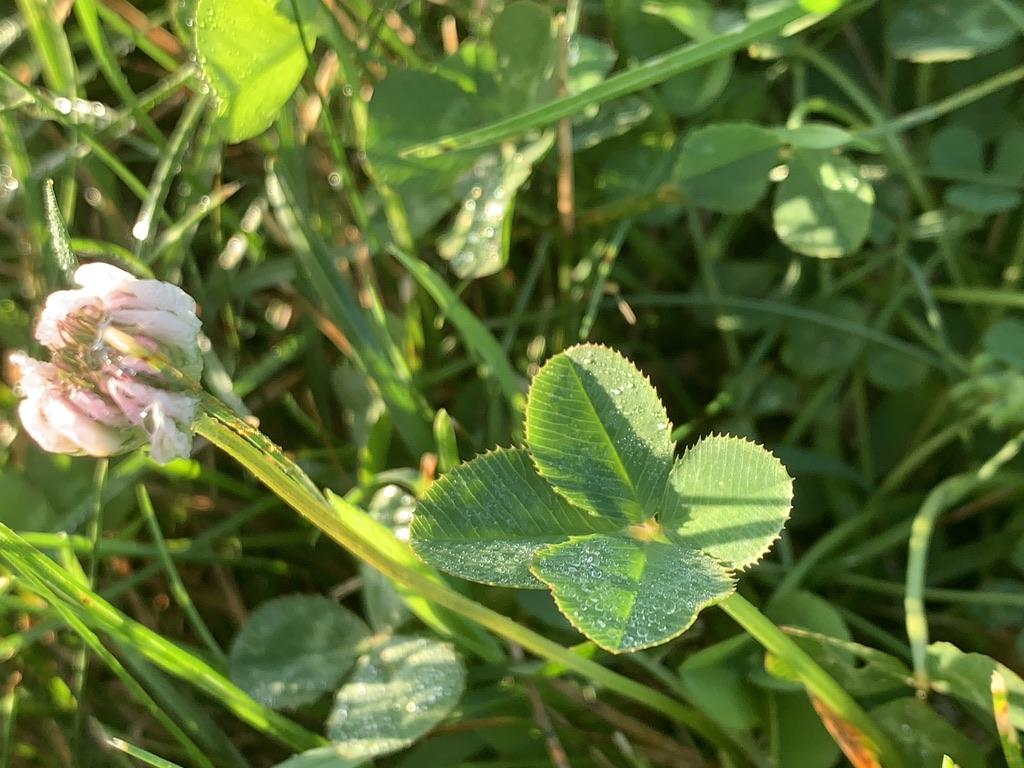4-Leaf-Clovers: (415, 344, 797, 653)
